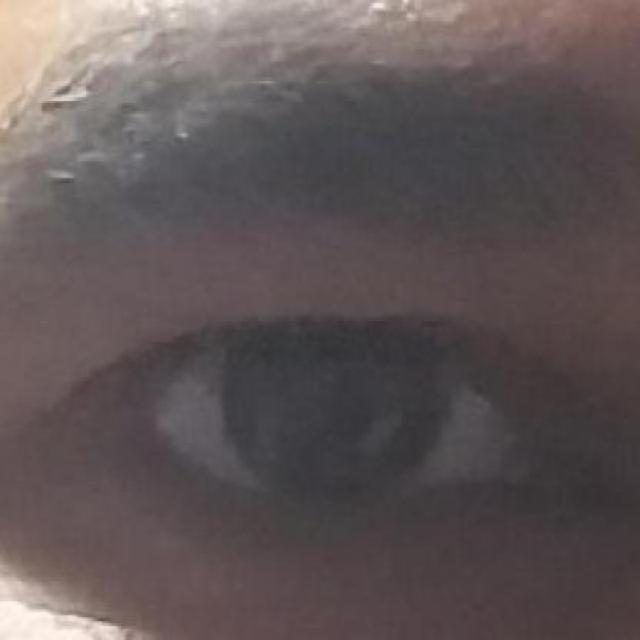awake: (146, 310, 543, 512)
